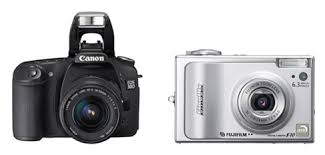camera: (7, 11, 142, 144), (174, 46, 315, 145)
